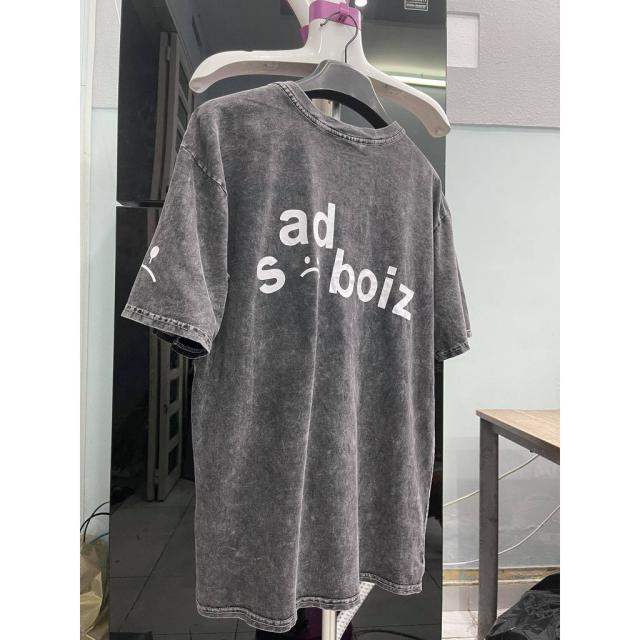Shirt: (119, 78, 486, 637)
